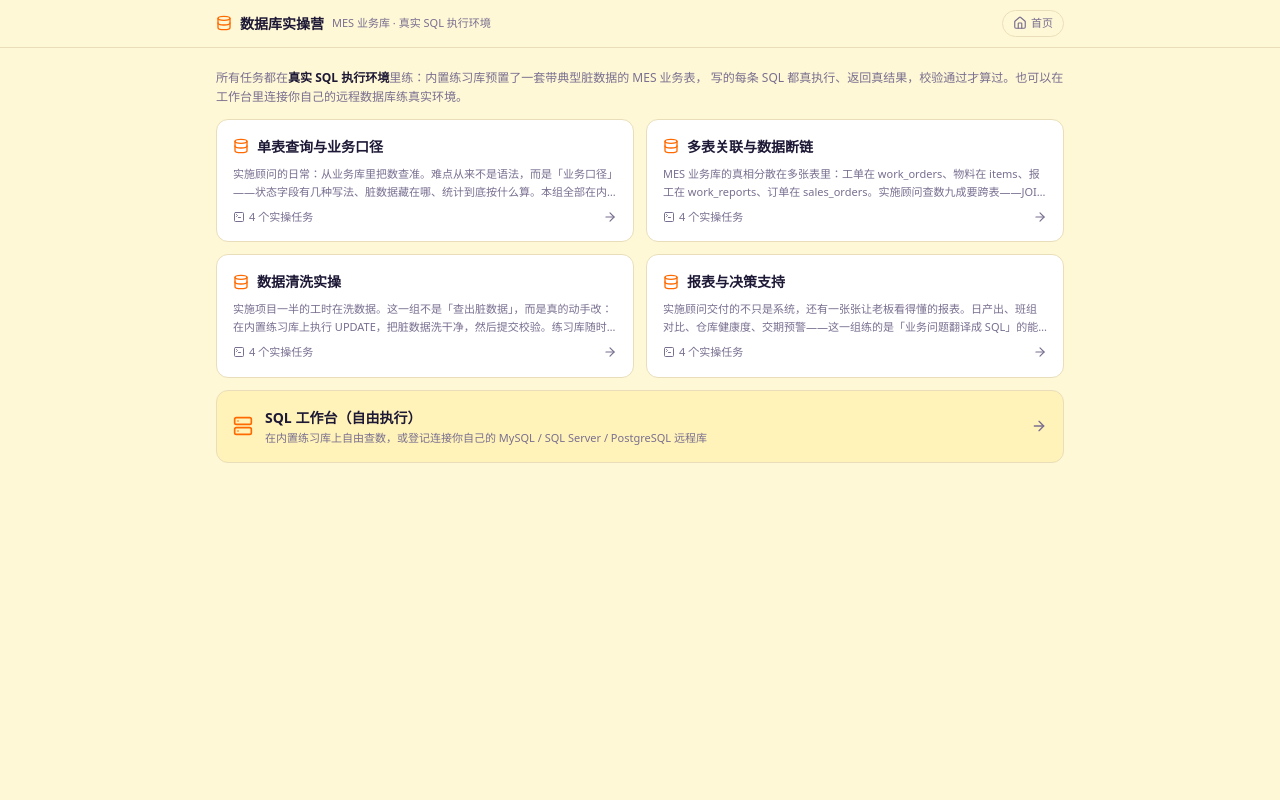
Test: 数据库实操营全流程 › 总览四组渲染 → 进 query 组第一题
Expected: the text "SQL 工作台（自由执行）" is shown, [265,408,421,426]
Click the text "单表查询与业务口径" at [320, 146], box [257,136,383,157]
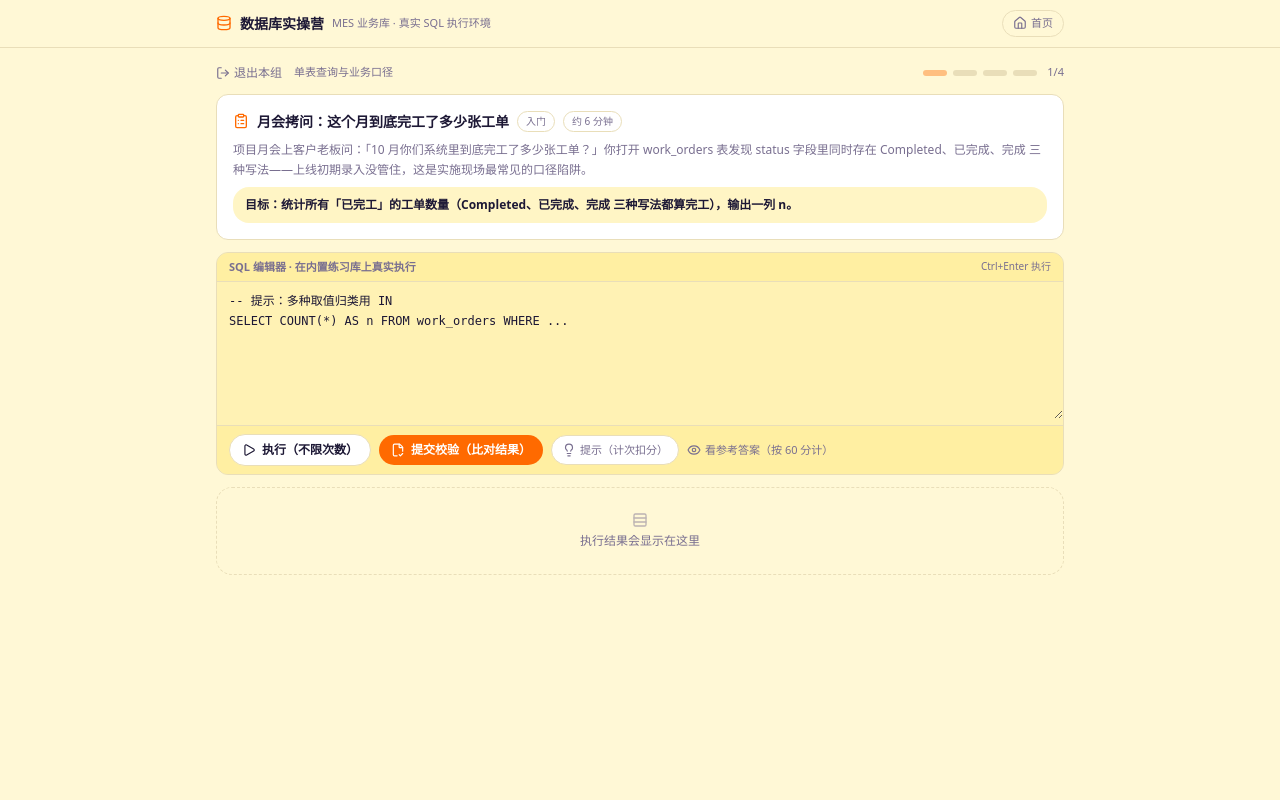
Now the heading "月会拷问：这个月到底完工了多少张工单" is shown, box [257,111,509,132]
Now the text "目标：统计所有「已完工」的工单数量（Completed、已完成、完成 三种写法都算完工），输出一列 n。" is shown, box [233,187,1047,222]
